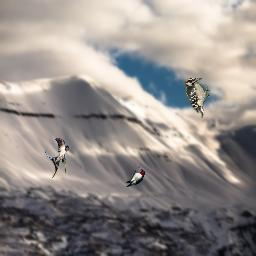Swallow: (45, 138, 69, 178)
Woodpecker: (184, 78, 210, 118), (125, 166, 146, 187)
